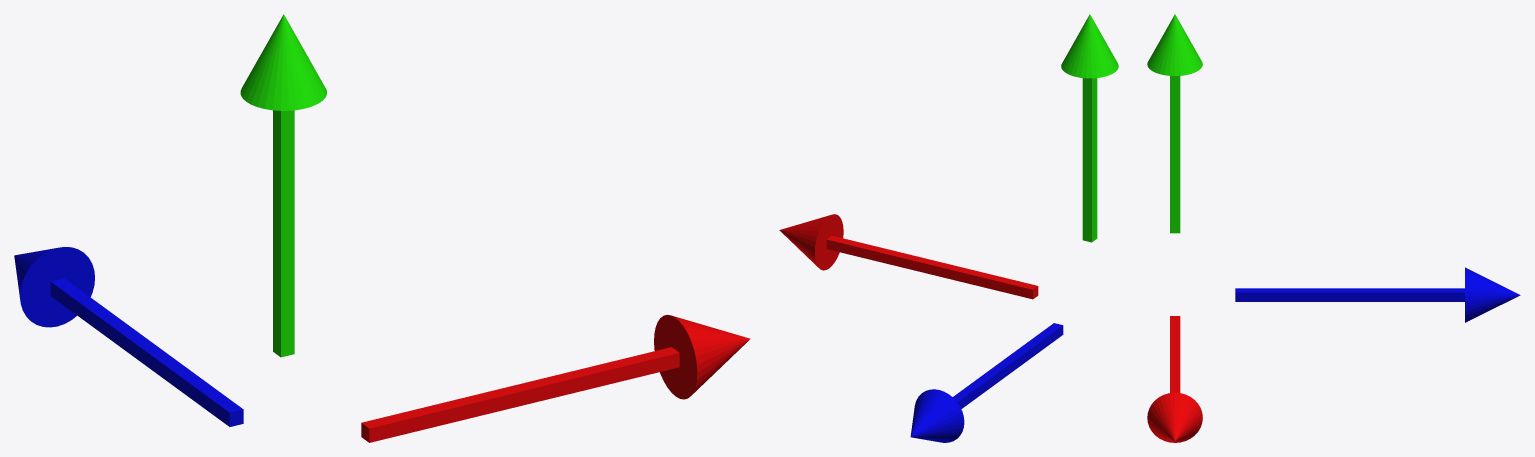
Rendered from gizmos.glb.
3 views of the same model, side by side, from view 1: azimuth 30°, elevation 25°; view 2: azimuth 150°, elevation 25°; view 3: azimuth 270°, elevation 25° (orthographic). The views are drawn at different scales.
Parts seen in each view (by area): view 1: Cube.002, Cube, Cube.001, Cone, Cone.002, Cone.001; view 2: Cube.002, Cube, Cone.001, Cone, Cube.001, Cone.002; view 3: Cube.001, Cone.002, Cone, Cube, Cone.001, Cube.002.
Boxes of the visible parts, x1,y1,x2,y2 form: Cube.002: (361,347,679,442); Cube: (273,110,294,357); Cube.001: (50,278,243,426); Cone: (240,14,326,110); Cone.002: (654,314,750,399); Cone.001: (14,247,94,327); Cube.002: (826,235,1038,299); Cube: (1082,78,1097,242); Cone.001: (910,389,964,442); Cone: (1061,14,1118,78); Cube.001: (953,323,1063,408); Cone.002: (779,214,843,270); Cube.001: (1235,288,1464,301); Cone.002: (1147,392,1202,442); Cone: (1147,14,1202,75); Cube: (1170,76,1180,233); Cone.001: (1465,267,1520,322); Cube.002: (1170,316,1180,392).
Size of the model in its own units: 5.29 by 4.79 by 5.29.
